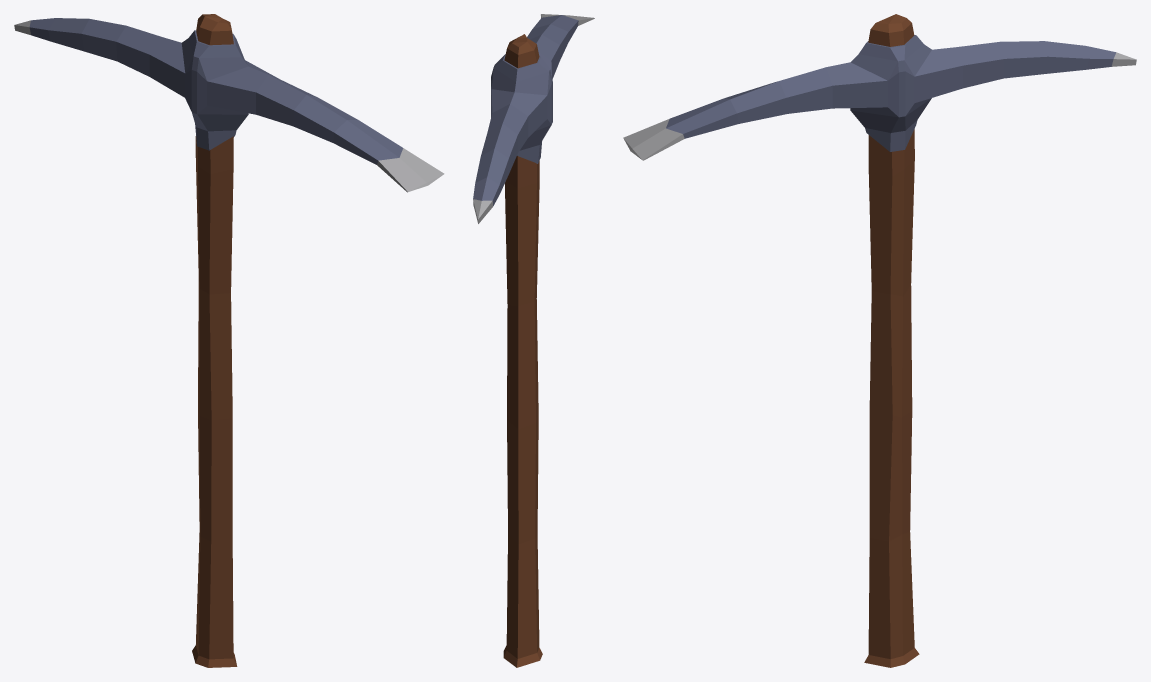
The model's file is pickaxe_iron.glb.
The picture shows the model from 3 angles, left to right: view 1: azimuth 30°, elevation 25°; view 2: azimuth 150°, elevation 25°; view 3: azimuth 270°, elevation 25°; orthographic projection. The views are drawn at different scales.
Visible parts, largest first — view 1: PickAxeV12; view 2: PickAxeV12; view 3: PickAxeV12.
Part boxes in pixels (box(x1,y1,x2,y2)): PickAxeV12: box(14, 14, 444, 667); PickAxeV12: box(473, 14, 594, 667); PickAxeV12: box(623, 14, 1136, 667).
Size of the model in its own units: 0.2794 by 0.9399 by 0.683.
3 materials, 3 textured.
